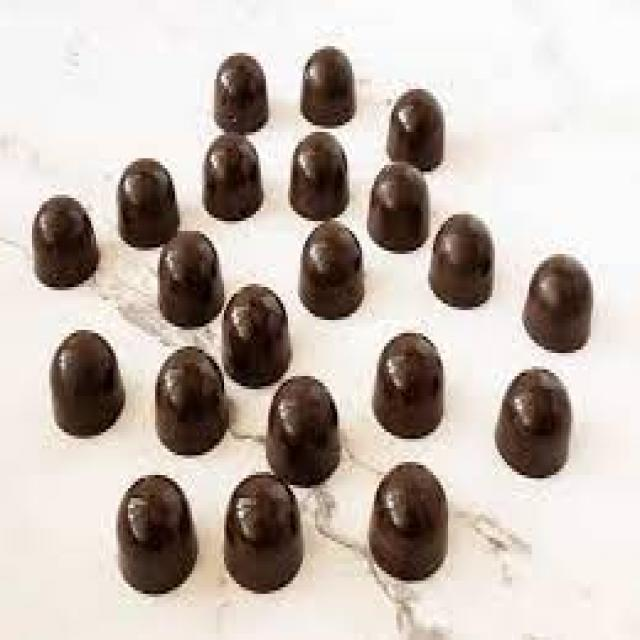Chocolate: (28, 42, 593, 596)
